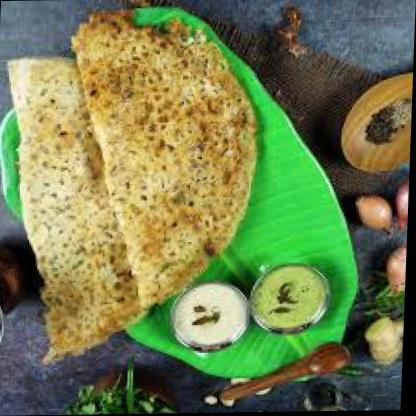dosa: (64, 7, 261, 311), (0, 54, 159, 362)
